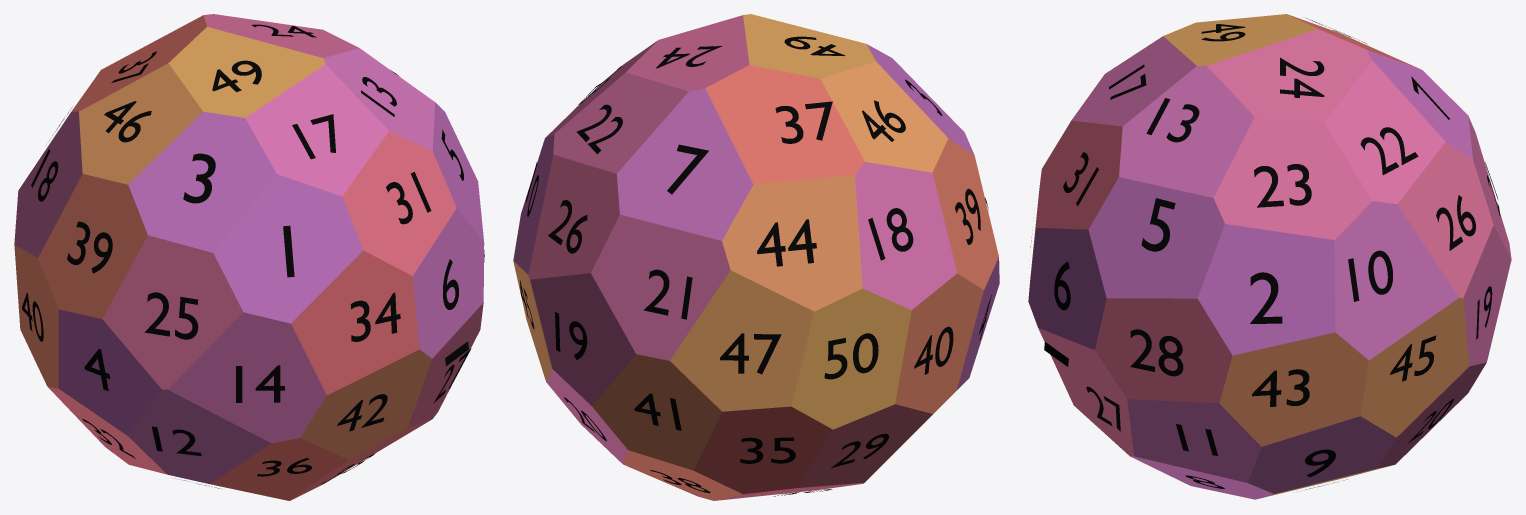
3 renders of one model, left to right at view 1: azimuth 30°, elevation 25°; view 2: azimuth 150°, elevation 25°; view 3: azimuth 270°, elevation 25°, orthographic.
Visible parts, largest first — view 1: d50, d50_num; view 2: d50, d50_num; view 3: d50, d50_num.
Boxes of the visible parts, bbox=[...] form: d50: bbox=[14, 14, 484, 500]; d50_num: bbox=[22, 24, 484, 489]; d50: bbox=[513, 14, 999, 500]; d50_num: bbox=[520, 36, 991, 496]; d50: bbox=[1028, 14, 1511, 499]; d50_num: bbox=[1030, 18, 1500, 491].
Bounding box in the file's own units: 3.28 × 3.22 × 3.26.
